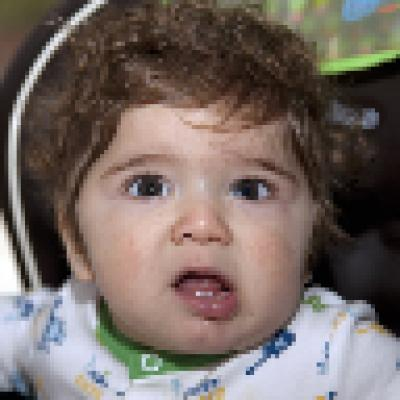surprise: (78, 70, 307, 338)
